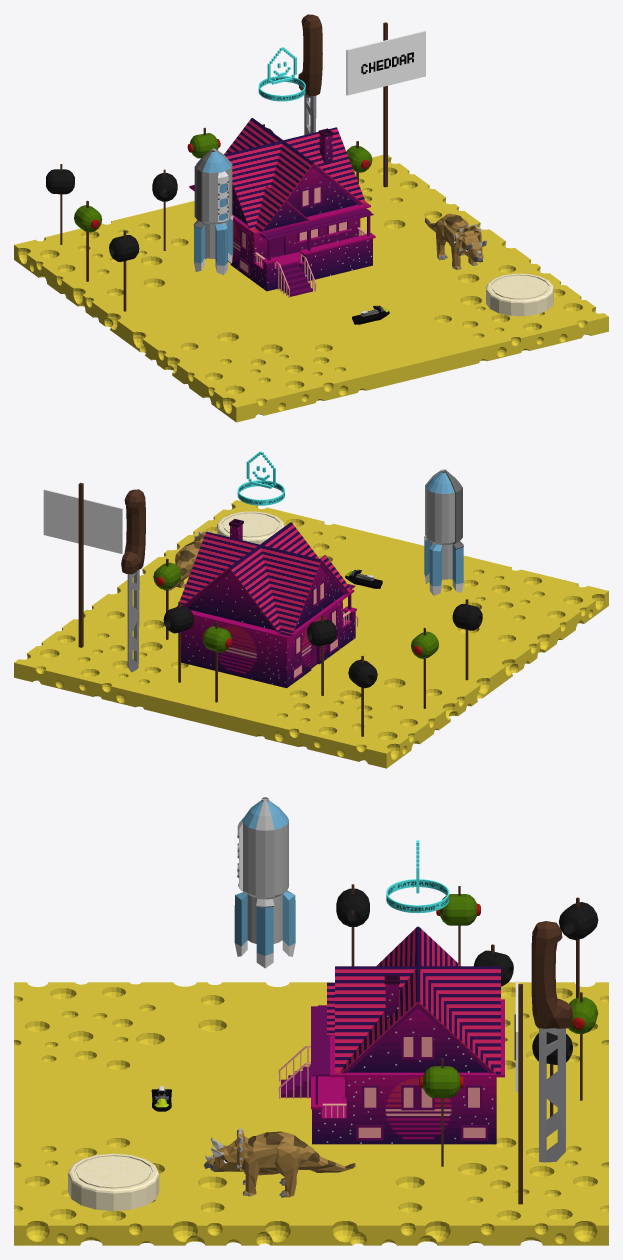
The picture shows the model from 3 angles, top to bottom: view 1: azimuth 30°, elevation 25°; view 2: azimuth 150°, elevation 25°; view 3: azimuth 270°, elevation 25°; orthographic projection. The views are drawn at different scales.
Visible parts, largest first — view 1: Cube.022, Cube.156, OBJRANDOM_ROCKETSHIP, Cube.023, Cylinder.016, Cube.024, ANIMAL_Triceratops, TYPE_PREMIUM, Sphere.017, Sphere.016, Sphere.020, Sphere.018 (+2 smaller); view 2: Cube.022, Cube.156, Cube.023, OBJRANDOM_ROCKETSHIP, Cube.024, Cylinder.016, TYPE_PREMIUM, Sphere.017, Sphere.020, Sphere.021, Sphere.016, Sphere.022 (+3 smaller); view 3: Cube.022, Cube.156, OBJRANDOM_ROCKETSHIP, Cube.024, ANIMAL_Triceratops, Cylinder.016, Cube.023, Sphere.016, Sphere.019, TYPE_PREMIUM, Sphere.017, Sphere.018 (+3 smaller).
Boxes of the visible parts, box(x1,y1,x2,y2) form: Cube.022: box(14, 155, 608, 422); Cube.156: box(189, 118, 375, 297); OBJRANDOM_ROCKETSHIP: box(193, 148, 233, 275); Cube.023: box(346, 22, 425, 187); Cylinder.016: box(486, 273, 553, 316); Cube.024: box(298, 14, 322, 134); ANIMAL_Triceratops: box(425, 213, 486, 269); TYPE_PREMIUM: box(258, 47, 305, 101); Sphere.017: box(109, 230, 139, 311); Sphere.016: box(46, 164, 74, 244); Sphere.020: box(152, 169, 177, 250); Sphere.018: box(74, 200, 102, 281); Cube.022: box(14, 500, 608, 768); Cube.156: box(176, 519, 358, 688); Cube.023: box(43, 482, 122, 647); OBJRANDOM_ROCKETSHIP: box(424, 469, 463, 595); Cube.024: box(121, 489, 145, 672); Cylinder.016: box(217, 511, 284, 544); TYPE_PREMIUM: box(237, 451, 284, 505); Sphere.017: box(452, 599, 482, 680); Sphere.020: box(307, 615, 336, 695); Sphere.021: box(163, 601, 193, 682); Sphere.016: box(348, 656, 377, 736); Sphere.022: box(202, 621, 232, 702); Cube.022: box(14, 982, 608, 1245); Cube.156: box(278, 926, 504, 1144); OBJRANDOM_ROCKETSHIP: box(234, 797, 295, 968); Cube.024: box(531, 921, 572, 1162); ANIMAL_Triceratops: box(203, 1127, 355, 1197); Cylinder.016: box(68, 1153, 159, 1210); Cube.023: box(514, 980, 522, 1204); Sphere.016: box(559, 897, 598, 998); Sphere.019: box(419, 1058, 463, 1166); TYPE_PREMIUM: box(386, 840, 449, 913); Sphere.017: box(336, 884, 369, 966); Sphere.018: box(436, 886, 480, 964).
Size of the model in its own units: 3917 by 2224 by 4000.
Materials: 40 (6 with a texture image).
